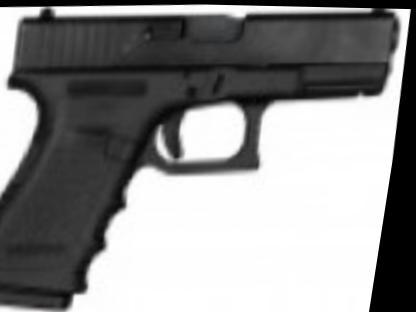pistol: (0, 0, 410, 306)
